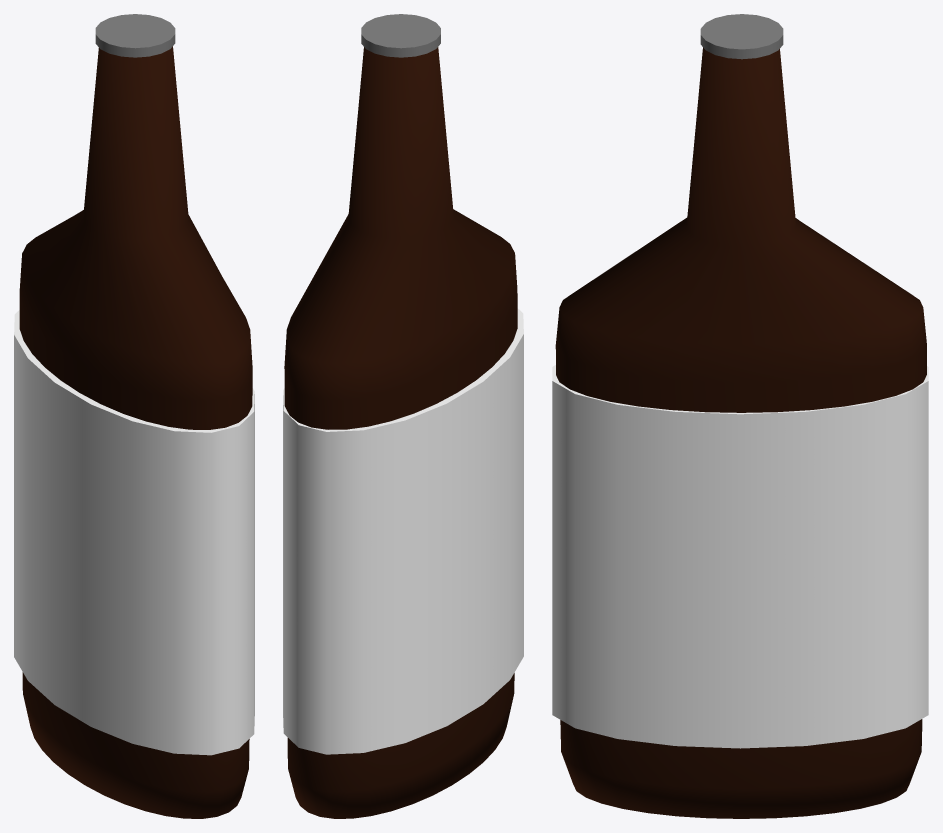
File: Whiskey Bottle.fbx
3 views of the same model, side by side, from view 1: azimuth 30°, elevation 25°; view 2: azimuth 150°, elevation 25°; view 3: azimuth 270°, elevation 25° (orthographic). The views are drawn at different scales.
Parts seen in each view (by area): view 1: Cylinder035, Sphere018, Cylinder034; view 2: Cylinder035, Sphere018, Cylinder034; view 3: Cylinder035, Sphere018, Cylinder034.
Part boxes in pixels (x1,y1,x2,y2): Cylinder035: [14, 310, 254, 755]; Sphere018: [19, 46, 252, 818]; Cylinder034: [95, 14, 175, 57]; Cylinder035: [283, 308, 523, 754]; Sphere018: [284, 47, 517, 818]; Cylinder034: [361, 14, 440, 57]; Cylinder035: [552, 365, 928, 748]; Sphere018: [555, 47, 926, 818]; Cylinder034: [700, 14, 783, 59].
Size of the model in its own units: 12.43 by 54.04 by 24.45.
